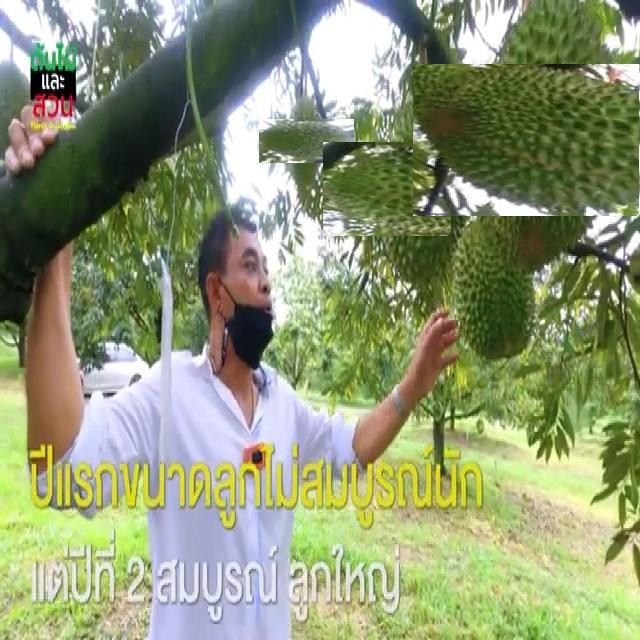durian: (443, 34, 640, 247), (350, 115, 497, 263), (451, 216, 538, 363), (271, 106, 341, 176)
